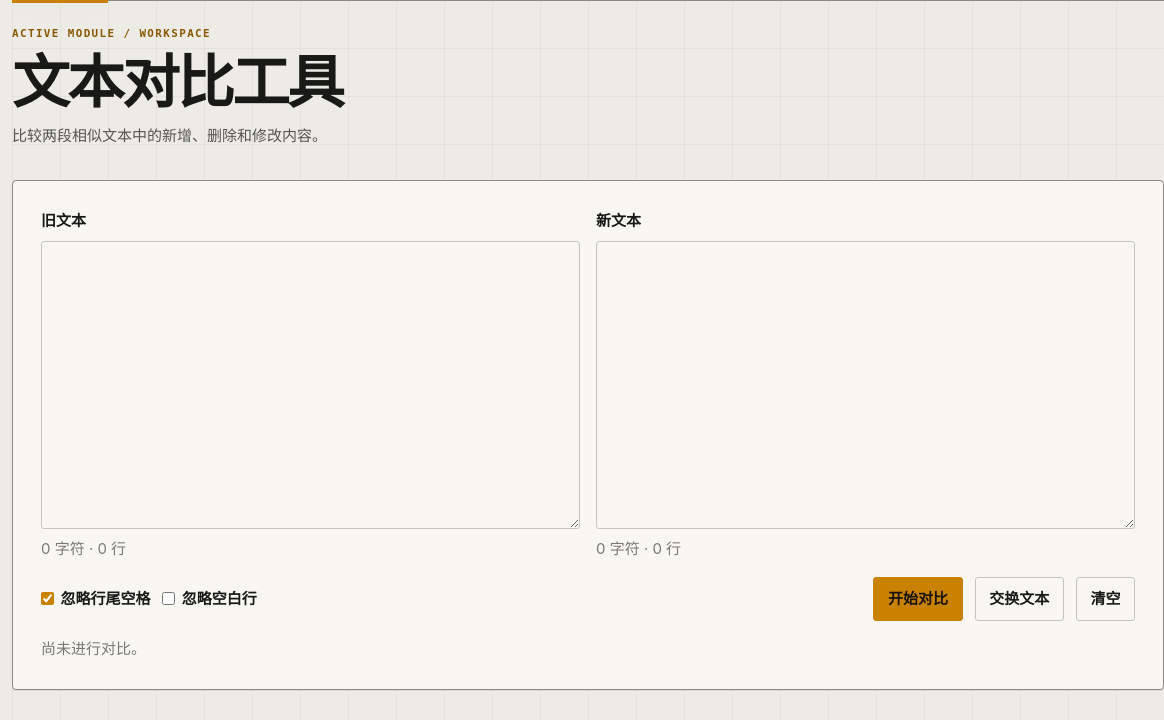
Scenario: TextCompareView › provides a bottom return-to-edit action that preserves input and options
Type "old text" into the text box labelled "旧文本" at (310, 385), box 41,241 -> 580,529
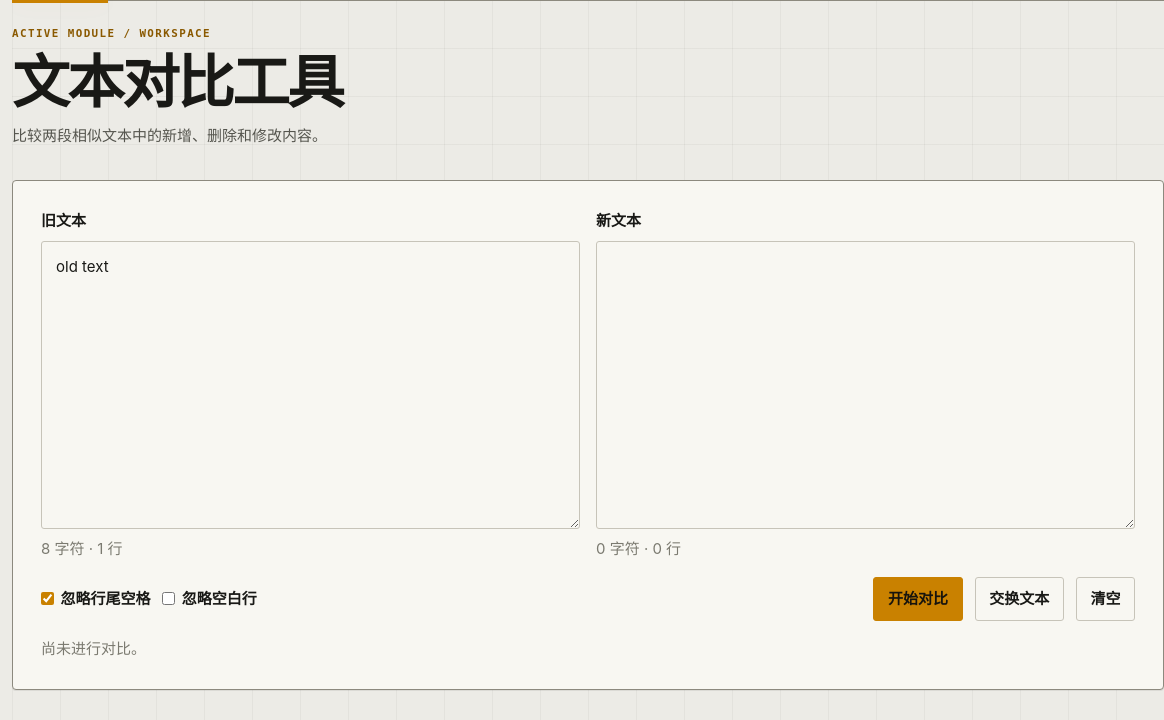
Type "new text" into the text box labelled "新文本" at (866, 385), box 596,241 -> 1135,529
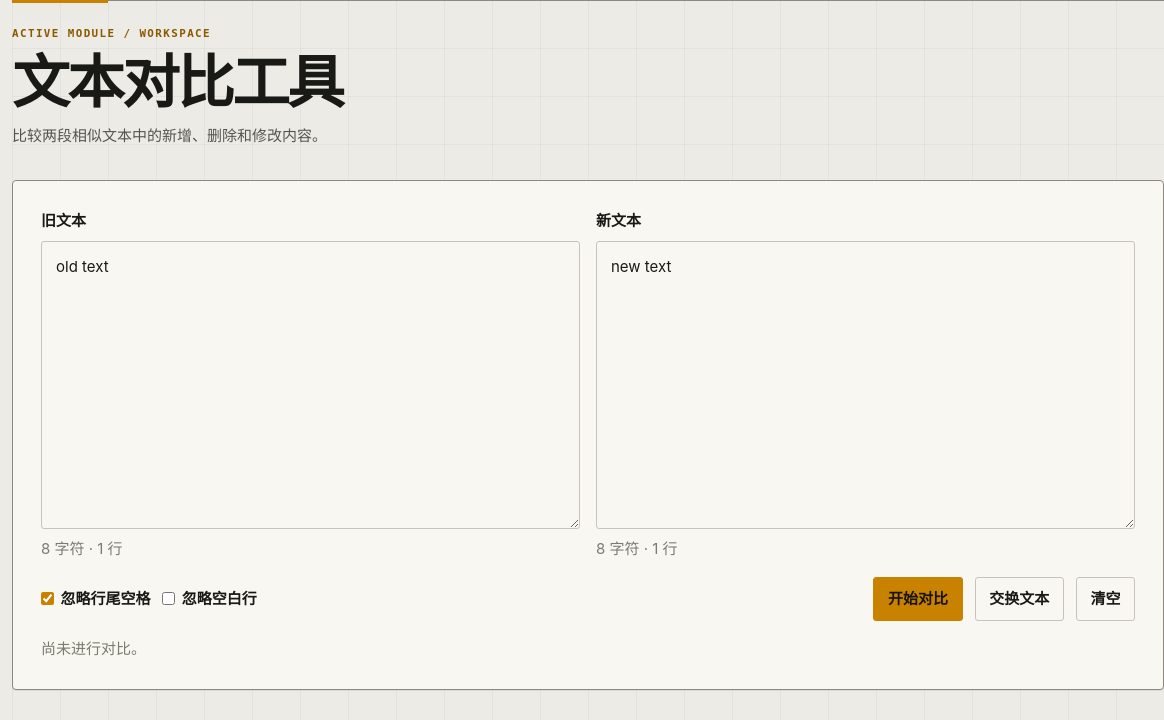
Click the checkbox labelled "忽略行尾空格" at (48, 599), box 41,592 -> 54,605
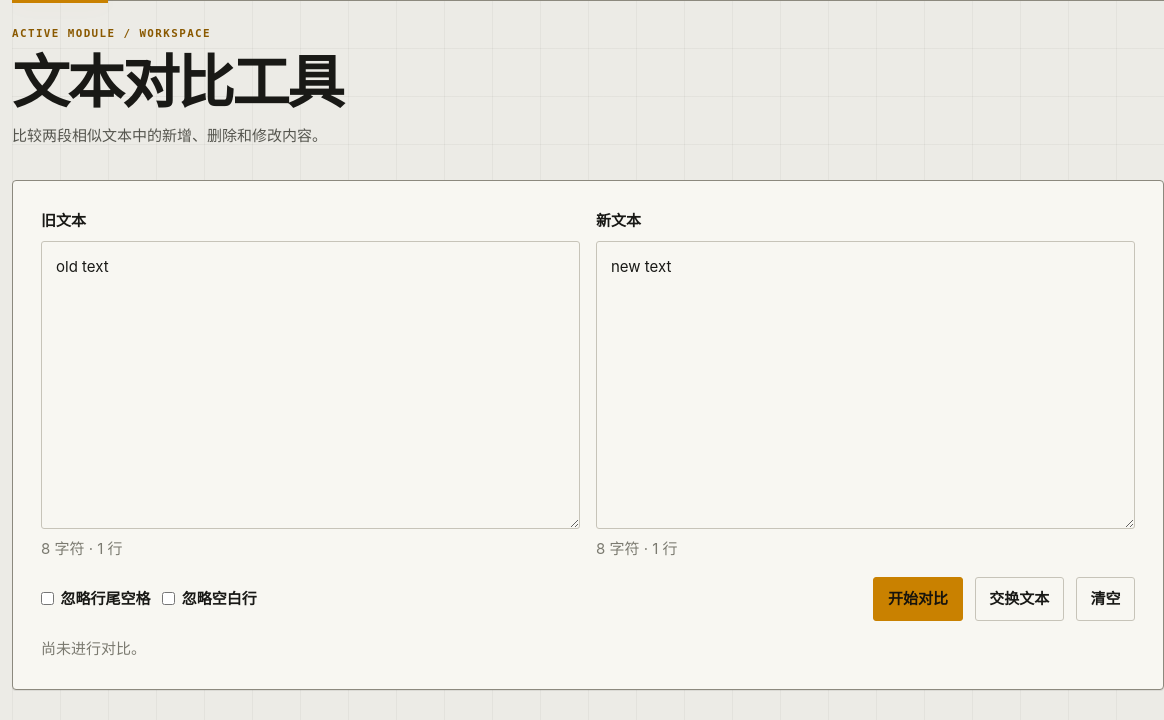
Click the button "开始对比" at (918, 599), box 873,577 -> 963,621
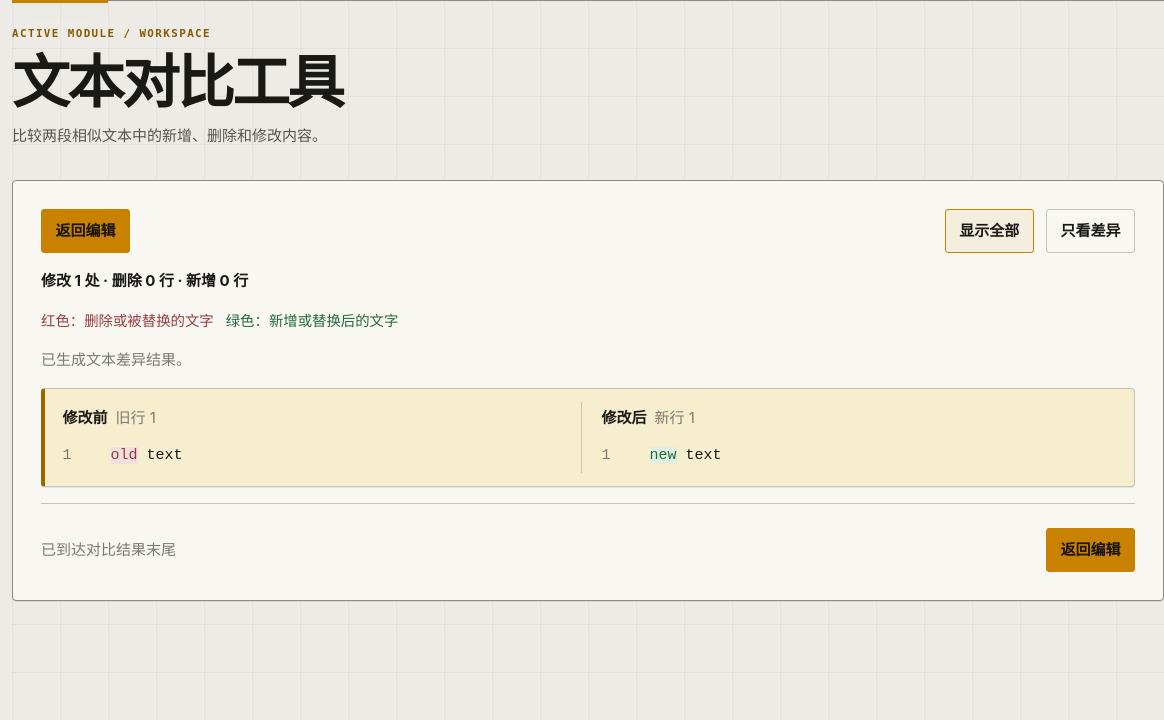
Result: the number of buttons with class "back-to-edit" is 2
Click the button with class "back-to-edit" in the row of "已到达对比结果末尾" at (1090, 550), box 1046,528 -> 1135,572
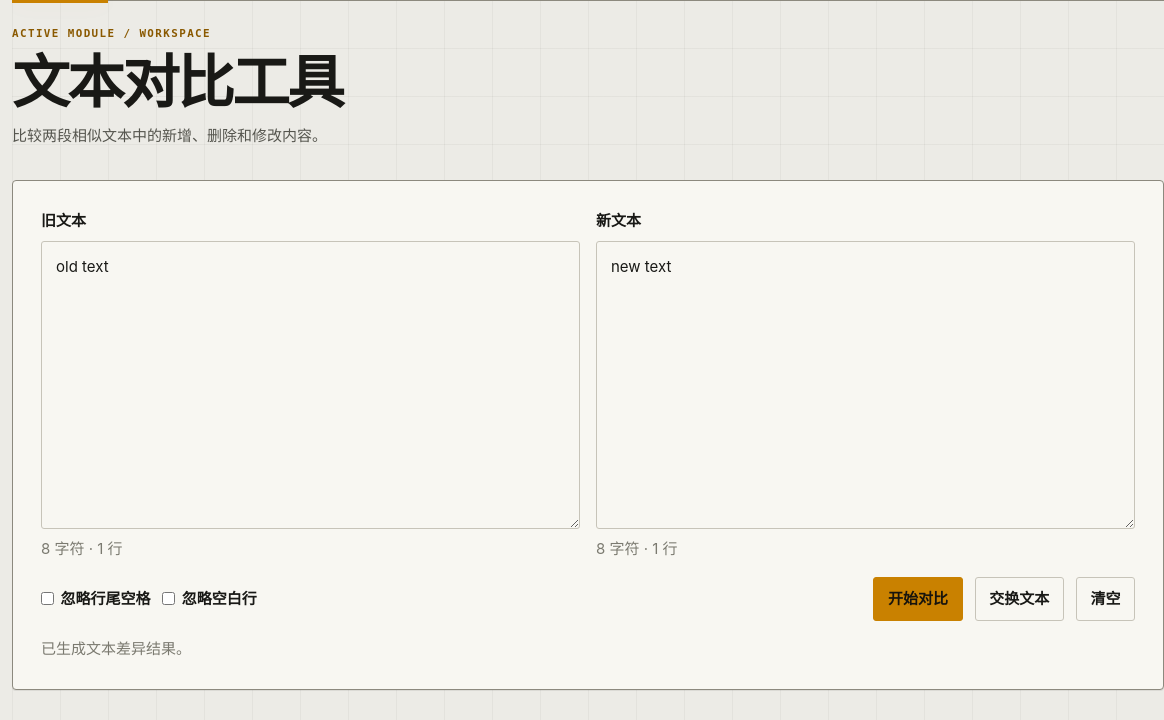
Result: the text box labelled "旧文本" holds "old text" at 41,241 -> 580,529
Result: the text box labelled "新文本" holds "new text" at 596,241 -> 1135,529
Result: the checkbox labelled "忽略行尾空格" is not checked at 41,592 -> 54,605
